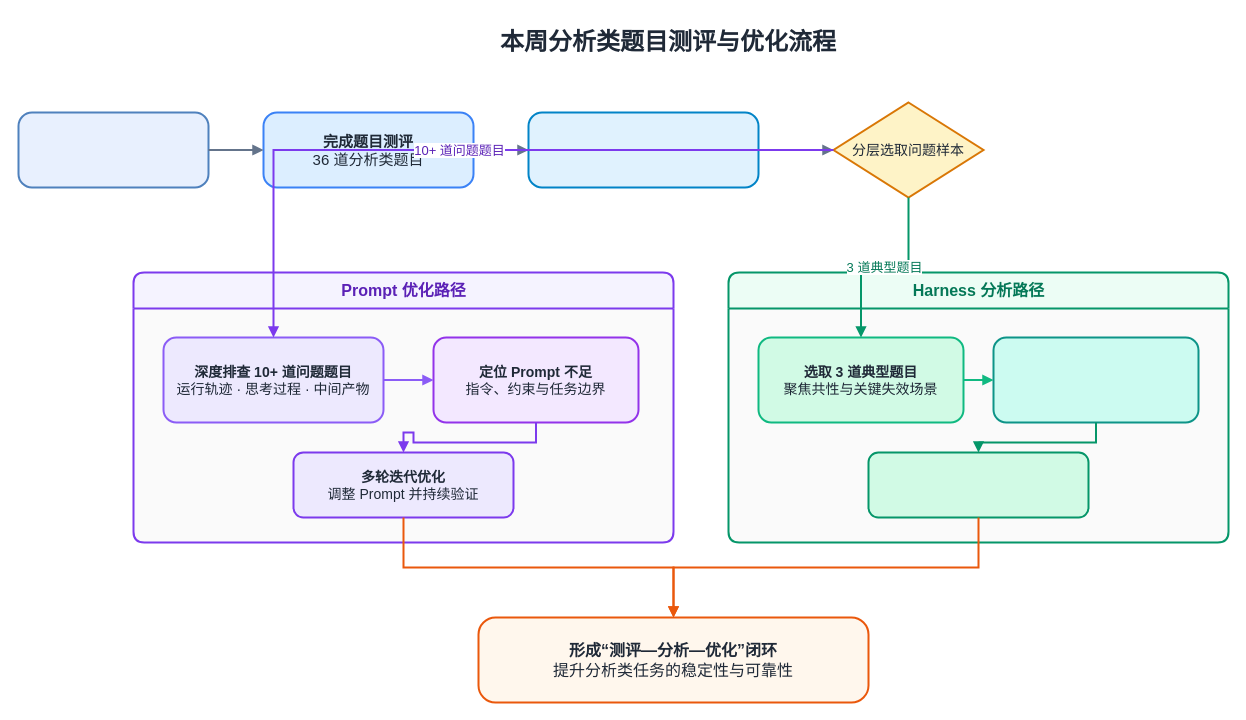
Some shapes in this 1246 by 720 pixel diagram are drawn without their labels. Here are the shapes that lost their labels. From the top down, the centre of each, then its label:
At pixel 113 149: "工具协同 Codex + Cowork".
At pixel 643 149: "结果汇总与初步分析 识别异常与典型问题".
At pixel 1095 379: "详细分析 Harness 不足 任务执行 · 过程控制 · 结果评估".
At pixel 978 484: "形成改进建议 为后续机制完善提供依据".
